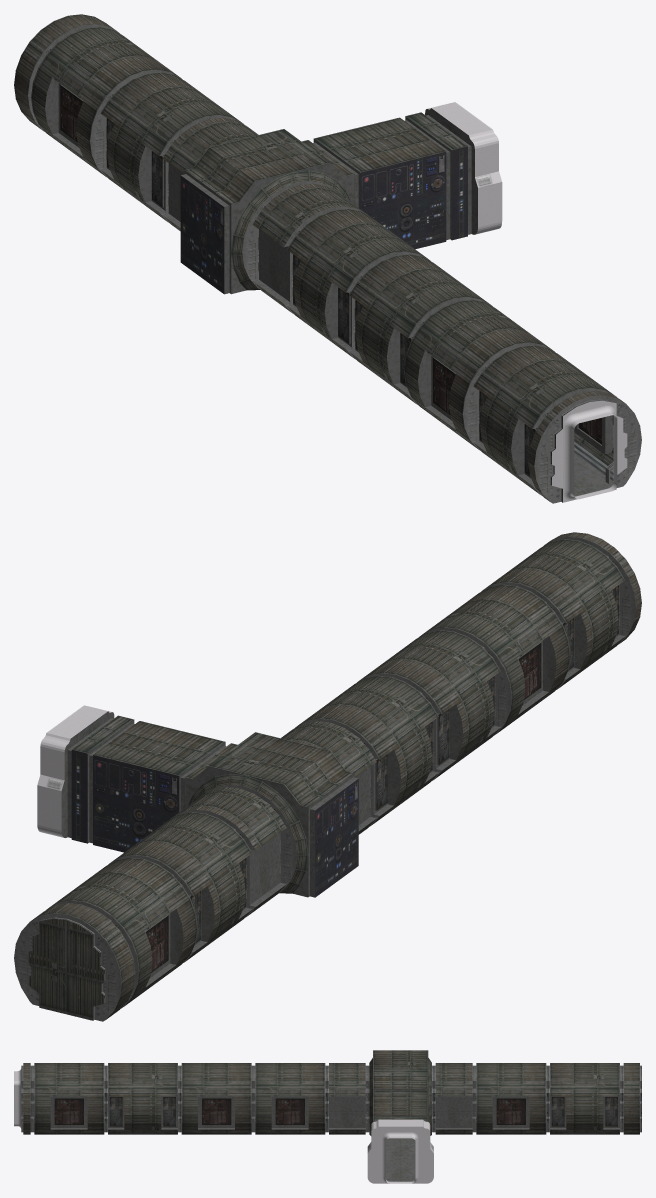
File: thm_spc_corvette_dungeon_r4_hall4_mesh_r4.fbx
The picture shows the model from 3 angles, top to bottom: view 1: azimuth 30°, elevation 25°; view 2: azimuth 150°, elevation 25°; view 3: azimuth 270°, elevation 25°; orthographic projection. The views are drawn at different scales.
Visible parts, largest first — view 1: mesh_node; view 2: mesh_node; view 3: mesh_node.
Boxes of the visible parts, left/top/right/bottom form: mesh_node: left=14, top=14, right=641, bottom=503; mesh_node: left=14, top=532, right=641, bottom=1021; mesh_node: left=14, top=1050, right=641, bottom=1183.
Bounding box in the file's own units: 10.5 × 3.8 × 34.1.
